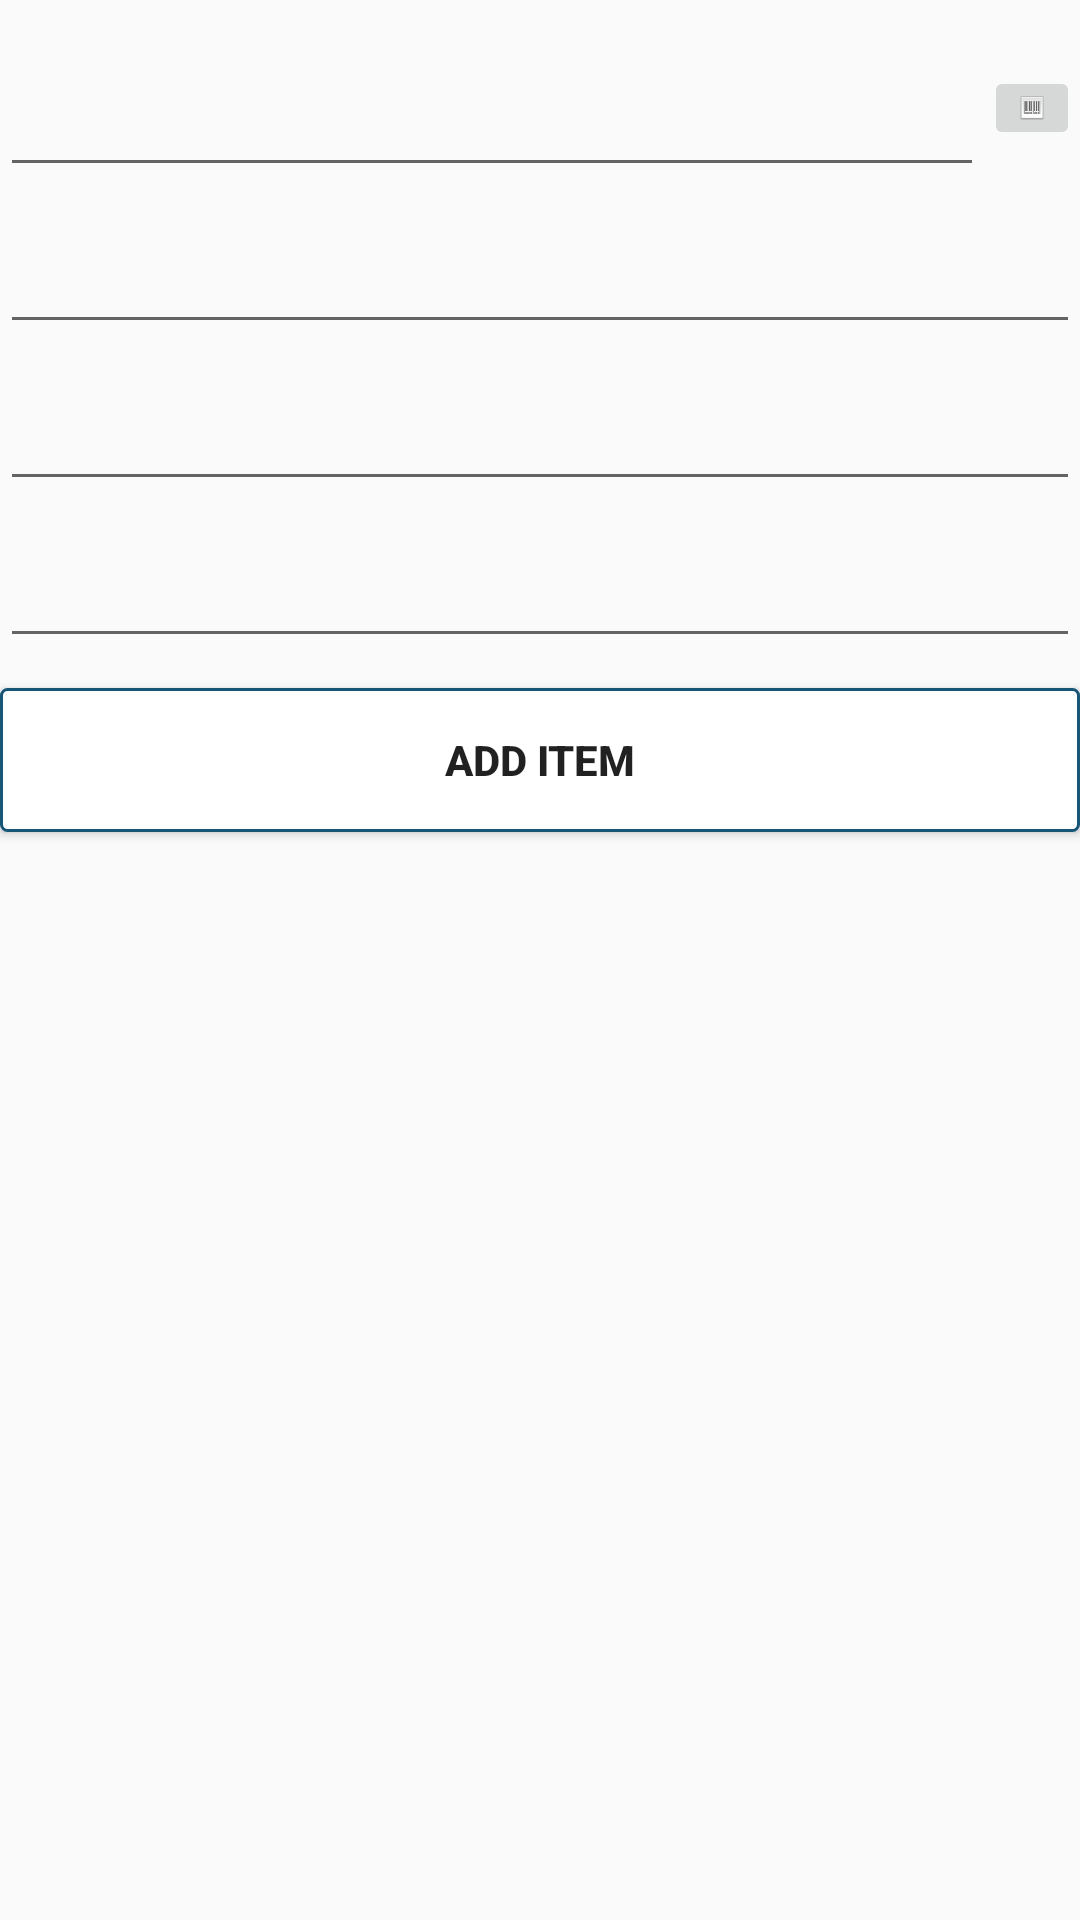

Where to tap for icons on this 1080x1920 app screen, as (x=x, y=y):
barcode: (x=1032, y=108)
